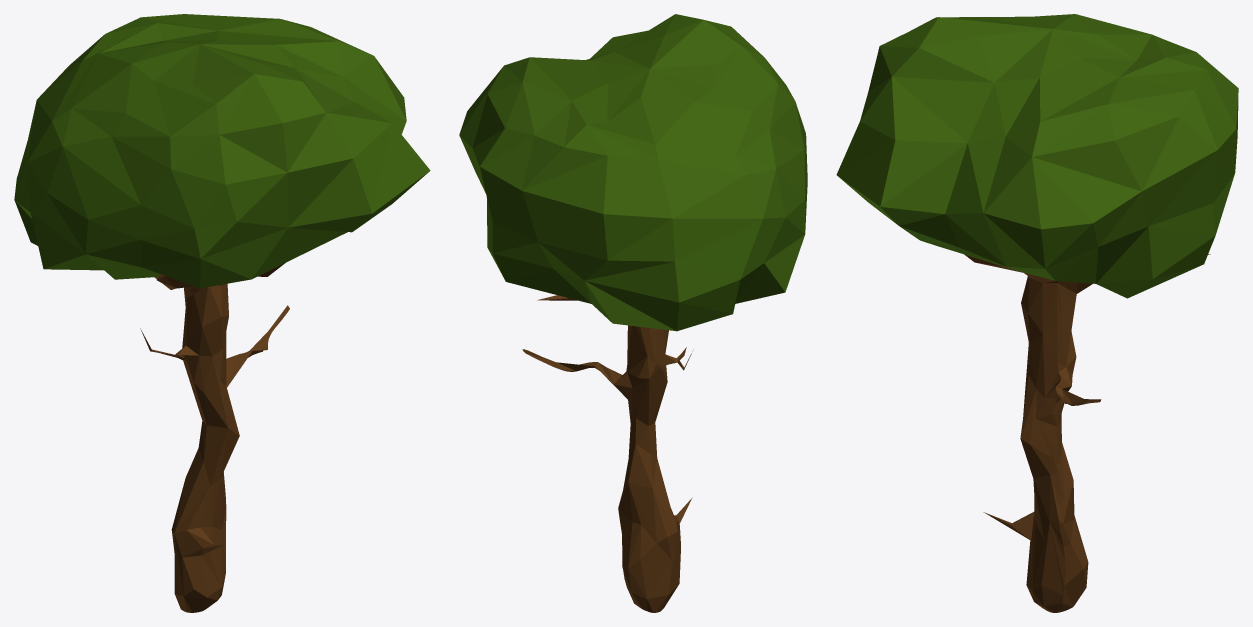
The model's file is tree-1.glb.
3 renders of one model, left to right at view 1: azimuth 30°, elevation 25°; view 2: azimuth 150°, elevation 25°; view 3: azimuth 270°, elevation 25°, orthographic. The views are drawn at different scales.
Parts seen in each view (by area): view 1: vegetation_01_vegetation_01_0; view 2: vegetation_01_vegetation_01_0; view 3: vegetation_01_vegetation_01_0.
Boxes of the visible parts, <box> form: vegetation_01_vegetation_01_0: <box>14,14,430,612</box>; vegetation_01_vegetation_01_0: <box>459,14,807,612</box>; vegetation_01_vegetation_01_0: <box>836,14,1238,612</box>.
Size of the model in its own units: 181 by 286 by 175.
Materials: 1 (1 with a texture image).
